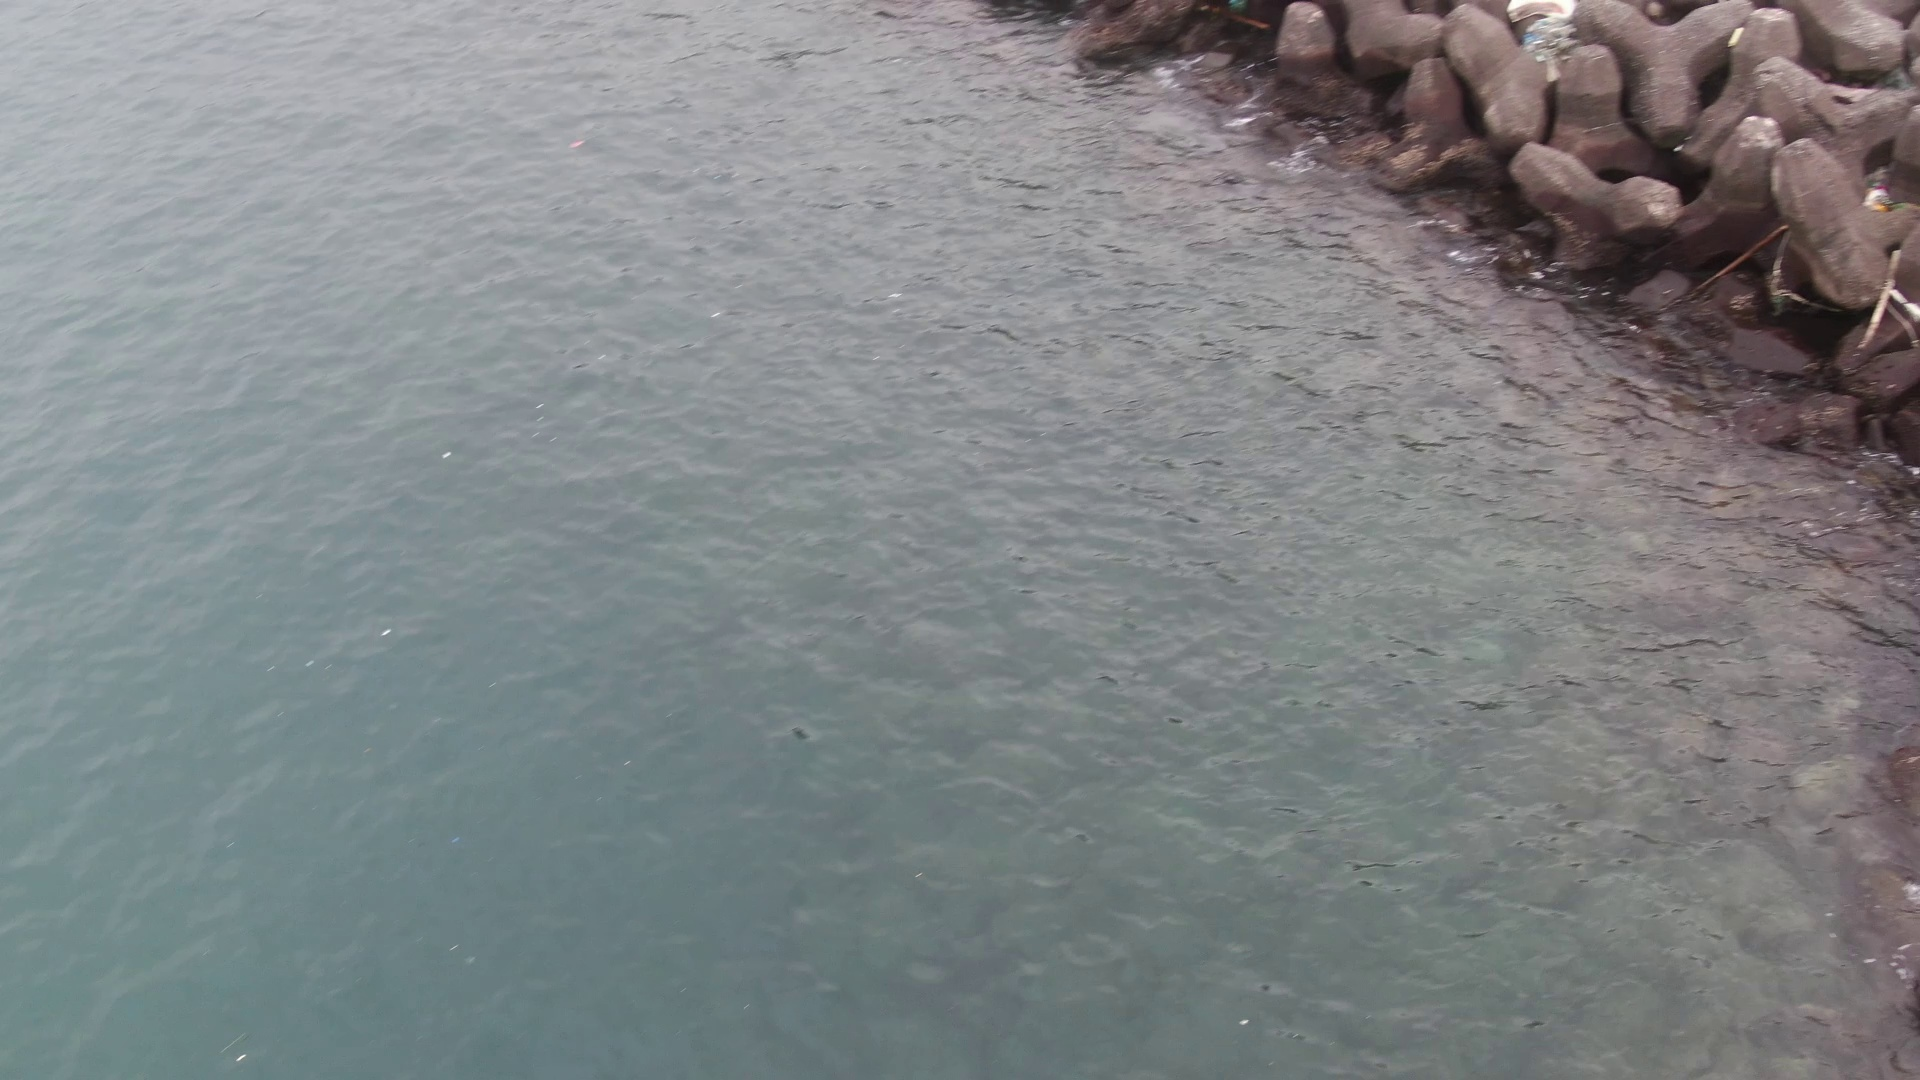garbage: (1485, 1, 1609, 76), (1859, 174, 1898, 222)
